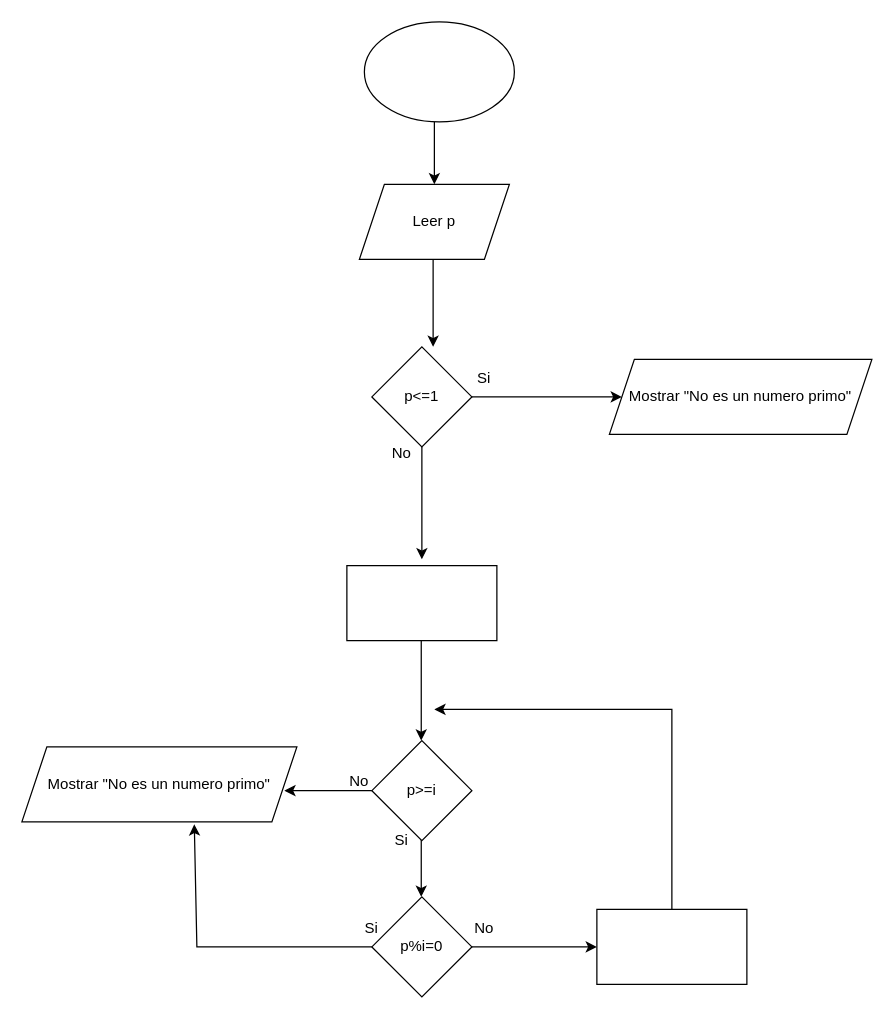
This 894x1019 diagram has some shape labels left out. The centre of each missing label's shape, as x and y in pixels:
i=2: point 421,602
i=i+1: point 671,946
Inicio: point 438,71
